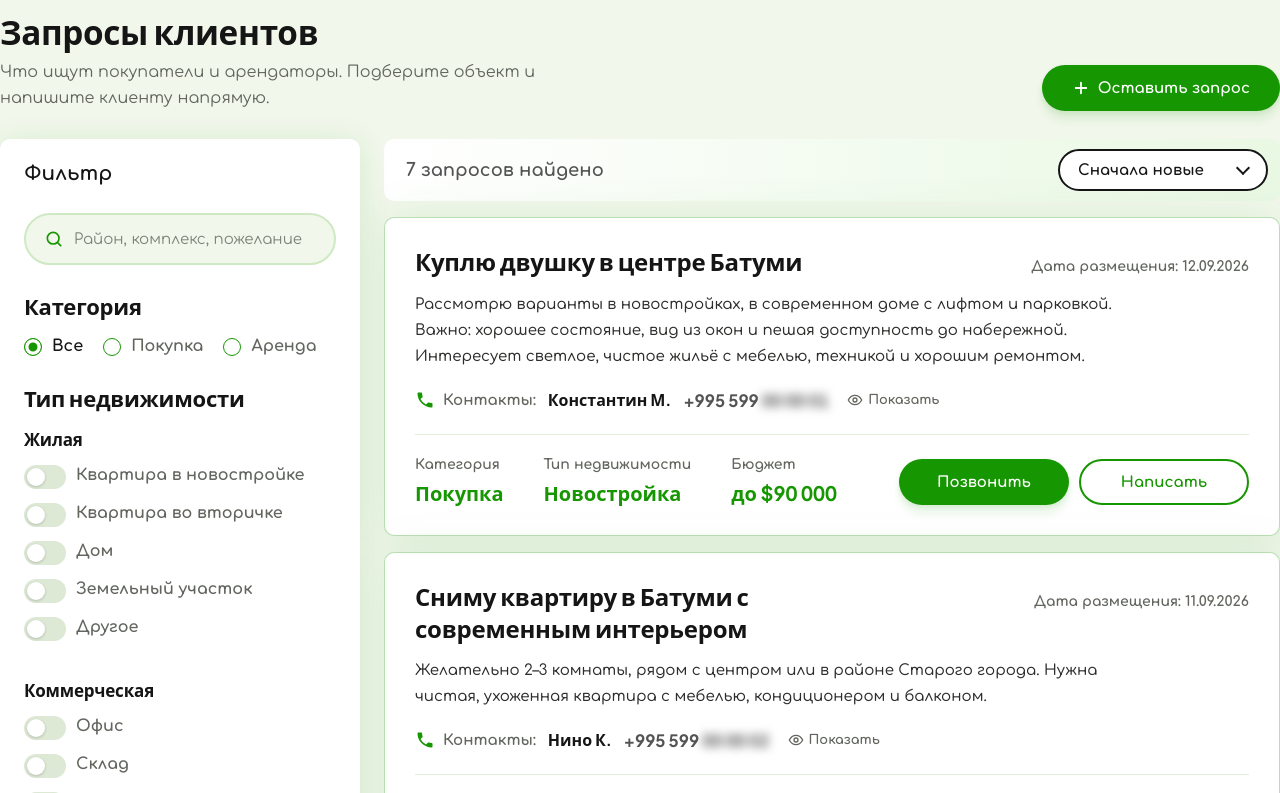
Test case: Buyer & Tenant Requests Board Acceptance (MKT-SCR-016) › closes the dialog on Escape
Click the button with test id "add-request-btn" at (1161, 88), box x1=1042 y1=66 x2=1279 y2=112
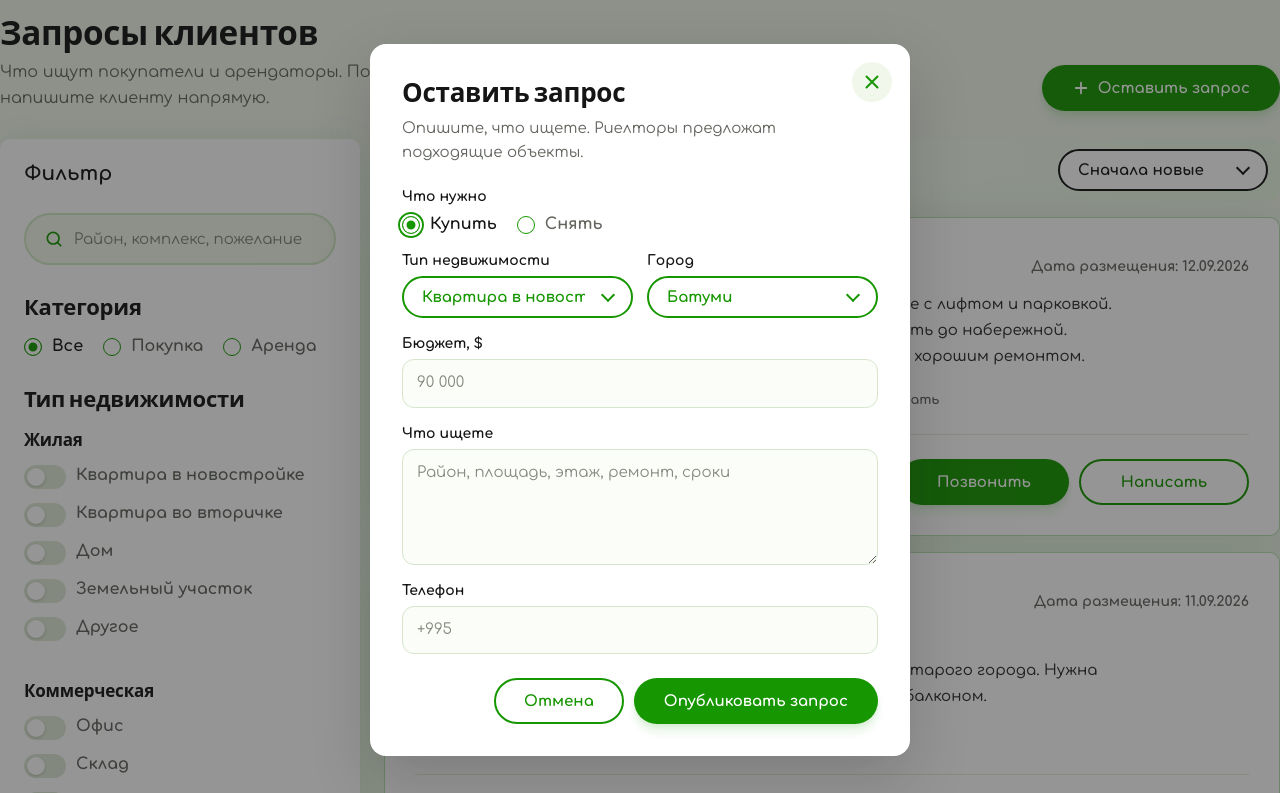
Check: the dialog "Оставить запрос" is shown, box x1=370 y1=44 x2=910 y2=756
Press Escape
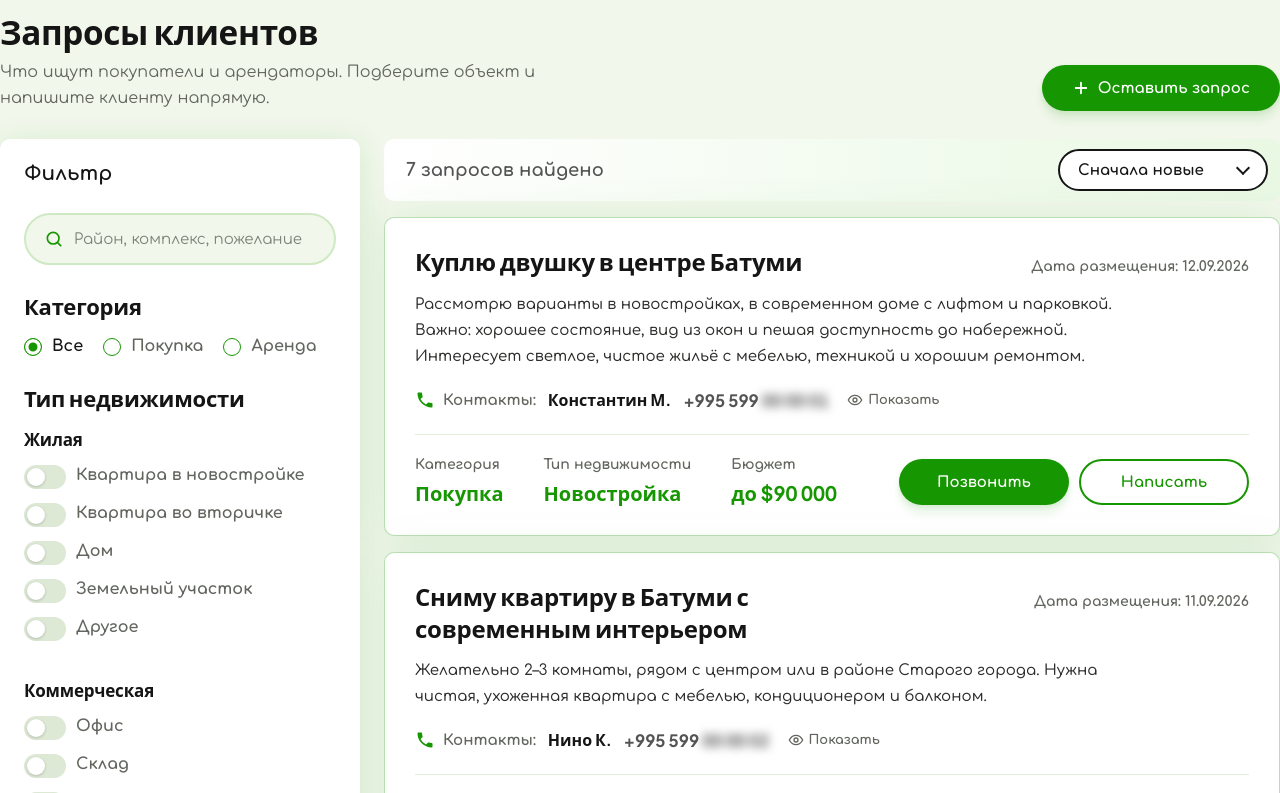
Check: the dialog is gone
